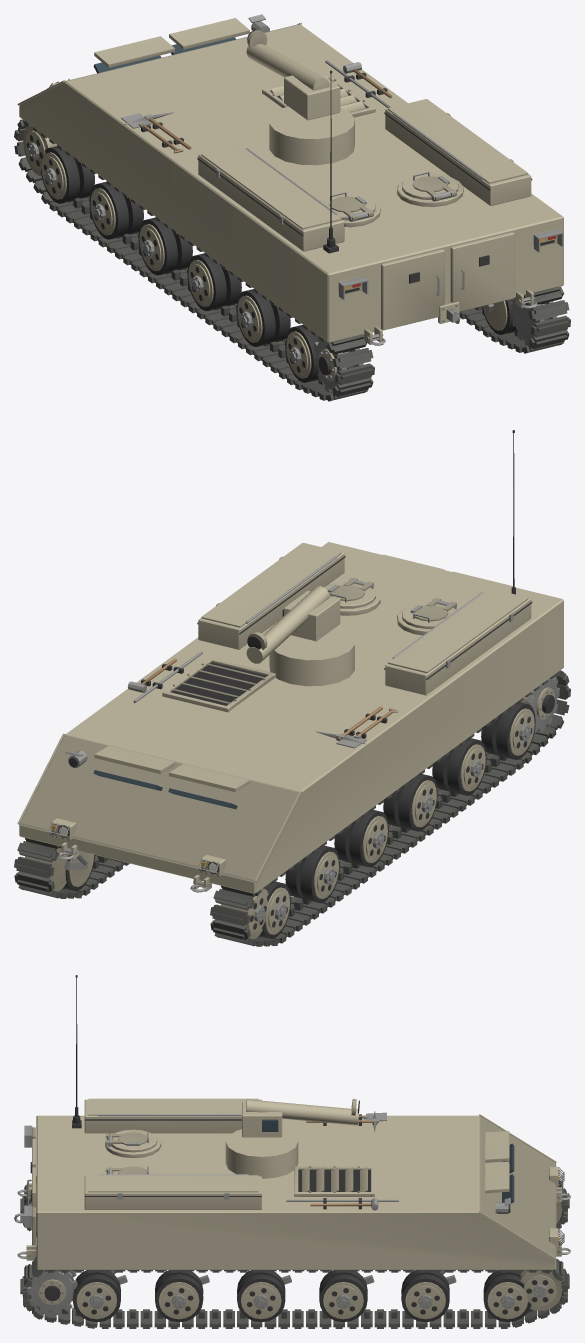
File: rus_td_shturm.glb
3 renders of one model, top to bottom at view 1: azimuth 30°, elevation 25°; view 2: azimuth 150°, elevation 25°; view 3: azimuth 270°, elevation 25°, orthographic. The views are drawn at different scales.
Visible parts, largest first — view 1: body, turret, barrel; view 2: body, turret, barrel; view 3: body, turret, barrel.
Boxes of the visible parts, box(x1,y1,x2,y2) form: body: box(14, 14, 570, 401); turret: box(269, 106, 354, 165); barrel: box(246, 30, 340, 120); body: box(14, 430, 570, 946); turret: box(269, 627, 354, 686); barrel: box(246, 586, 340, 663); body: box(14, 975, 570, 1328); turret: box(225, 1129, 298, 1178); barrel: box(242, 1099, 359, 1137).
Size of the model in its own units: 2.89 by 3.67 by 6.91.
